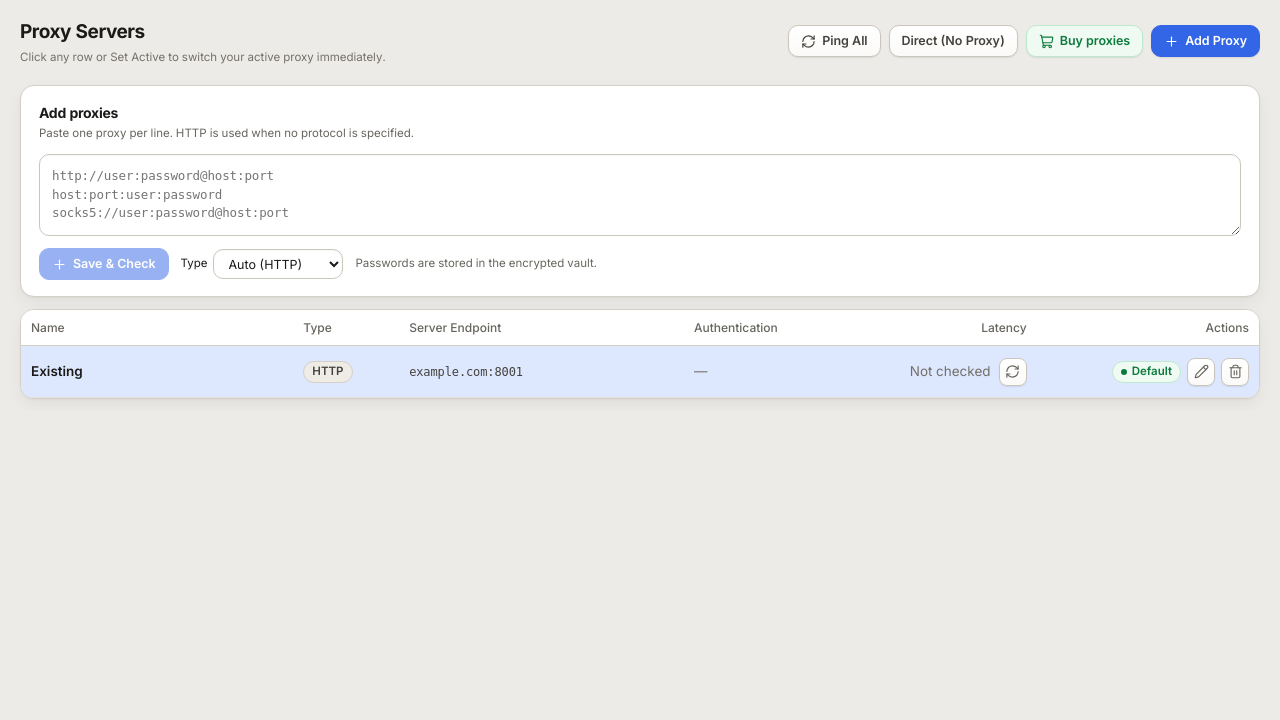
Test case: edits a backend proxy type and shows save errors
Click the button named "Edit".
click(1201, 372)  # box [1187,358,1215,386]
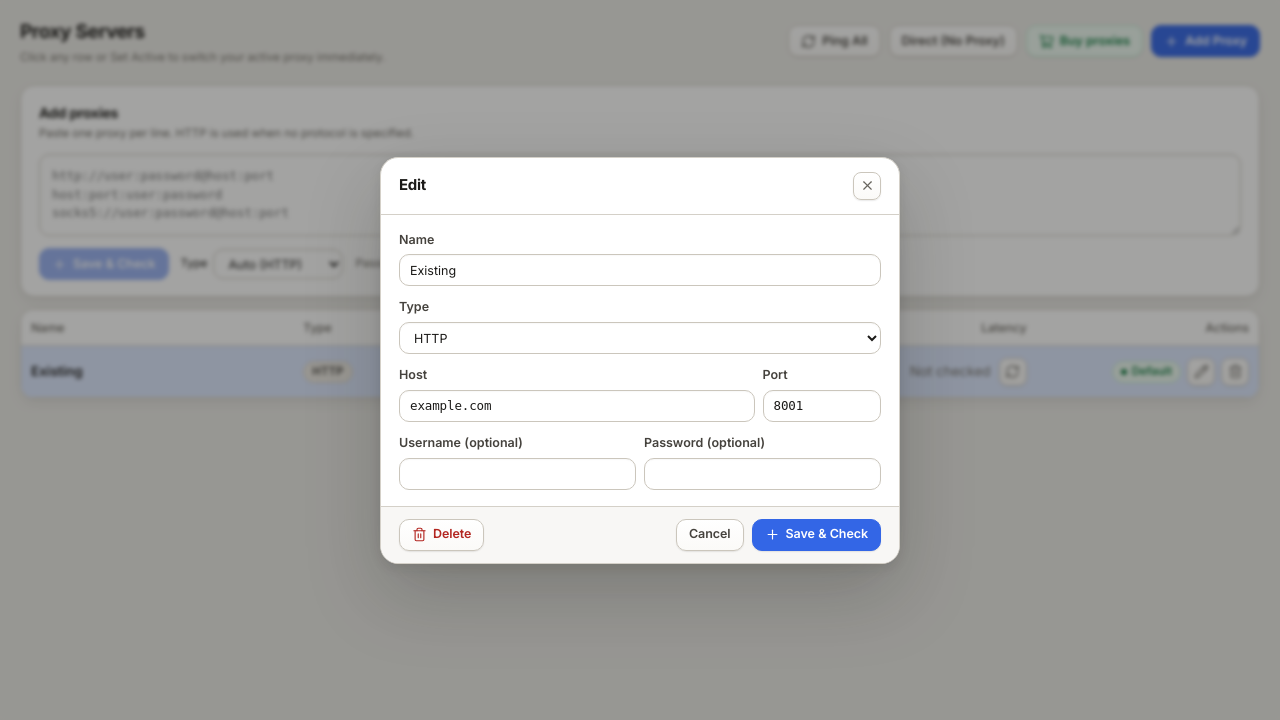
Now the dropdown shows "HTTP", box [399,322,881,354]
Click the button "Save & Check".
click(816, 534)  # box [752,518,881,550]
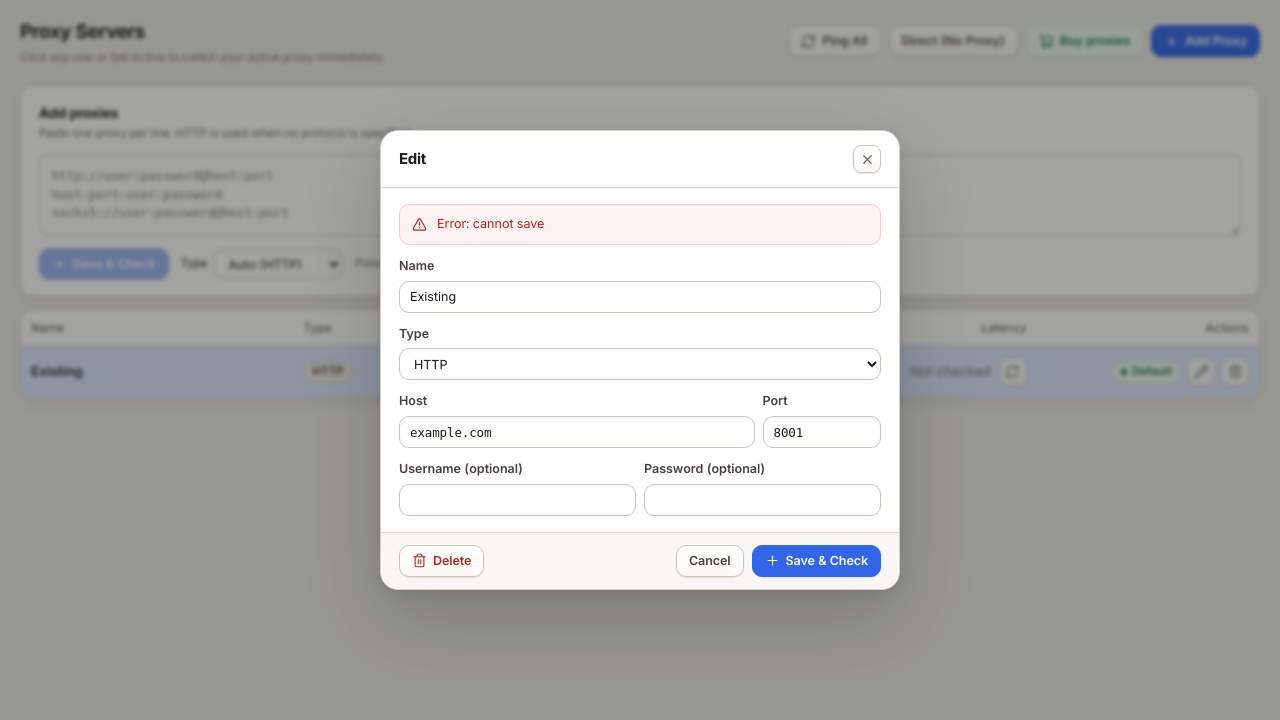
Now the message shows "cannot save", box [437,216,544,231]
